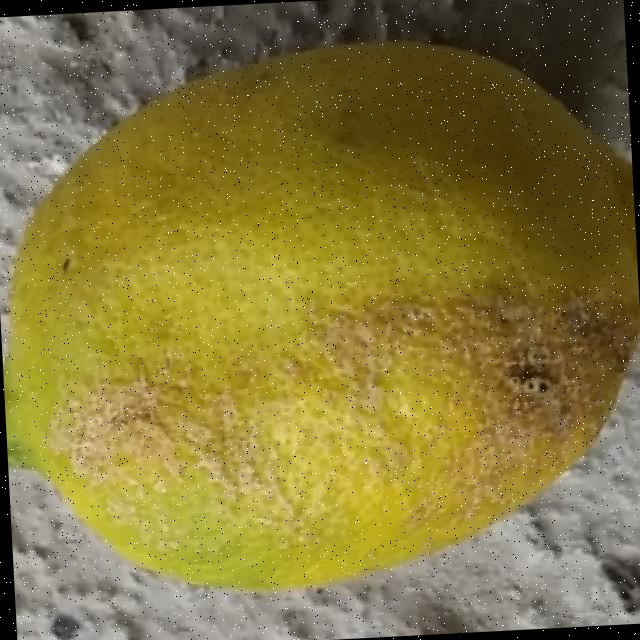overripe: (0, 15, 640, 612)
